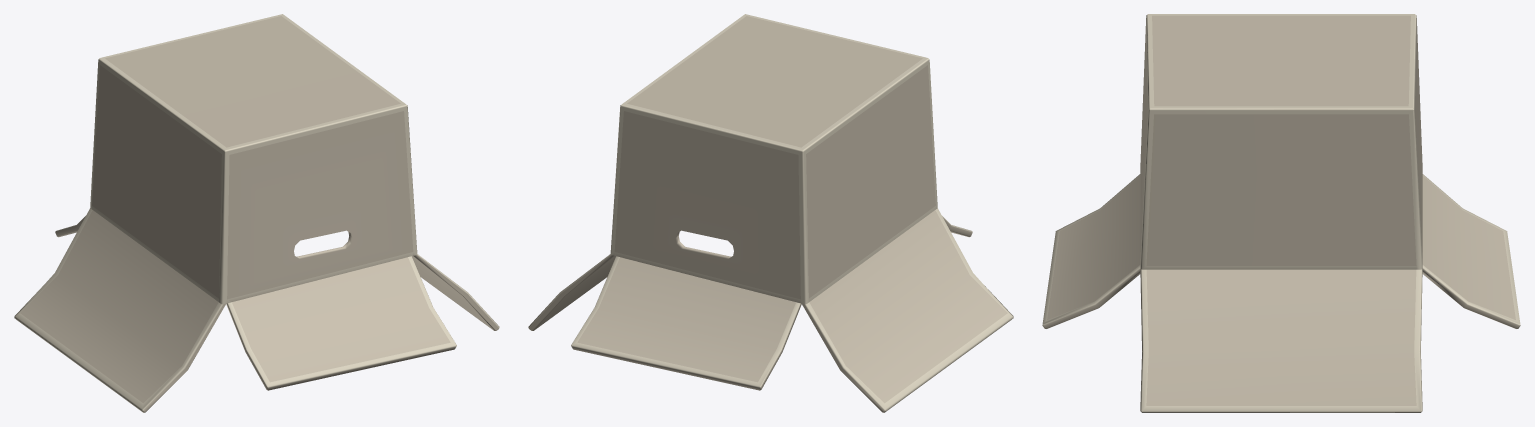
The model's file is BoxF.glb.
The picture shows the model from 3 angles, left to right: view 1: azimuth 30°, elevation 25°; view 2: azimuth 150°, elevation 25°; view 3: azimuth 270°, elevation 25°; orthographic projection. The views are drawn at different scales.
Visible parts, largest first — view 1: BoxF; view 2: BoxF; view 3: BoxF.
Boxes of the visible parts, left/top/right/bottom form: BoxF: left=14, top=14, right=499, bottom=412; BoxF: left=528, top=14, right=1013, bottom=412; BoxF: left=1042, top=14, right=1520, bottom=412.
Size of the model in its own units: 5.64 by 3.71 by 6.17.
